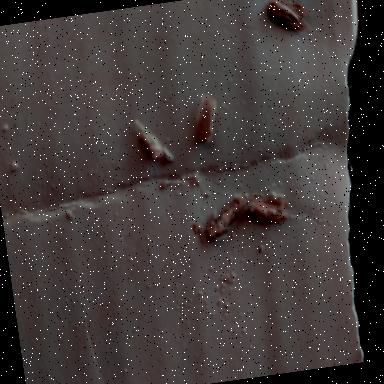pbw: (200, 186, 268, 242), (264, 0, 316, 51), (236, 190, 289, 228), (192, 89, 222, 144)
